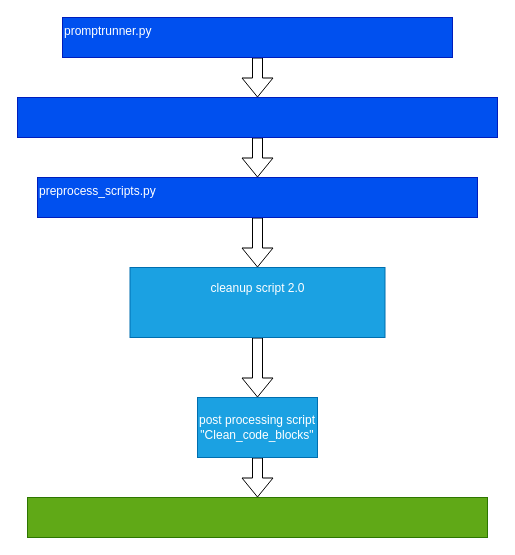
Image size: 515x555. Some labels were removed from this diagram. The shapes that lost their labels are listed below. From the top down, each one's box as (x1, y1, x2, y2) in pixels, then its label:
(16, 96, 498, 138): generate_tests_enhanced.py
(26, 496, 488, 538): pytest_aggregator.py
